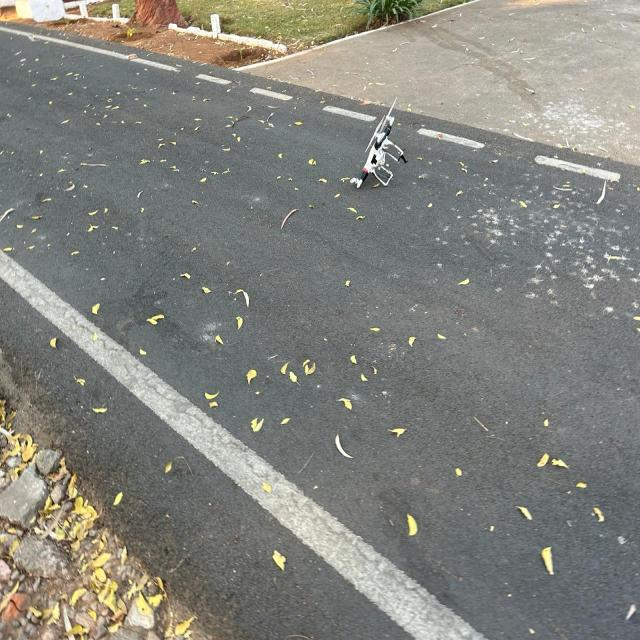drone: (343, 74, 429, 202)
